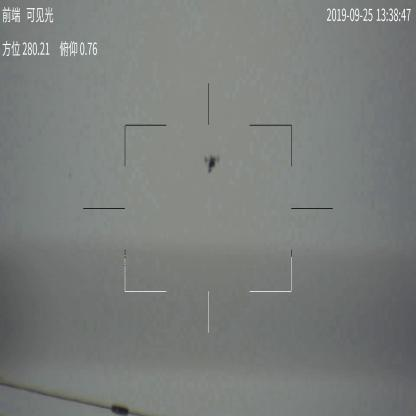uav: (203, 152, 222, 172)
